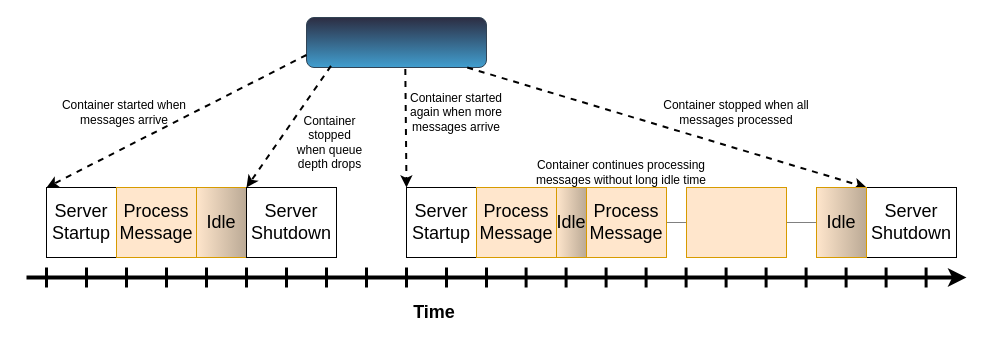
Some shapes in this 993 by 345 pixel diagram are drawn without their labels. Here are the shapes that lost their labels. From the top down, the box of each, then its label:
(306, 16, 486, 68): KEDA Controller
(686, 186, 786, 258): (more messages)
